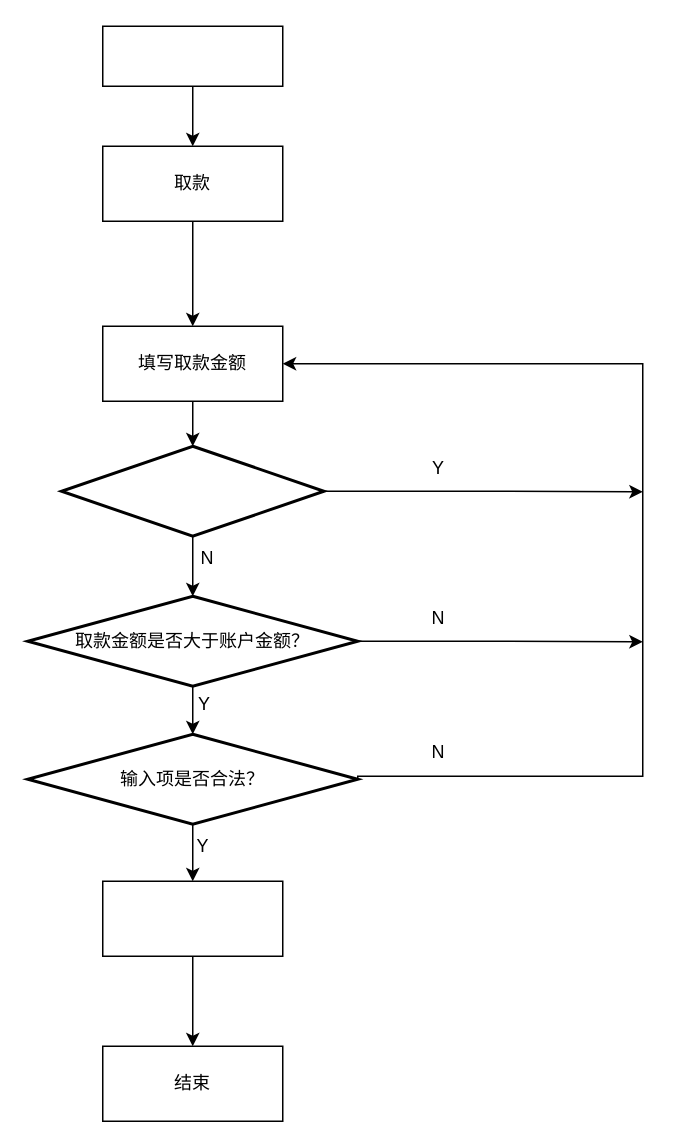
Image size: 681x1148. Some labels were removed from this diagram. Each missing label, with the box of its shape:
取款成功: (101, 880, 283, 956)
开始: (101, 25, 283, 86)
账户是否被锁定？: (59, 444, 325, 537)
